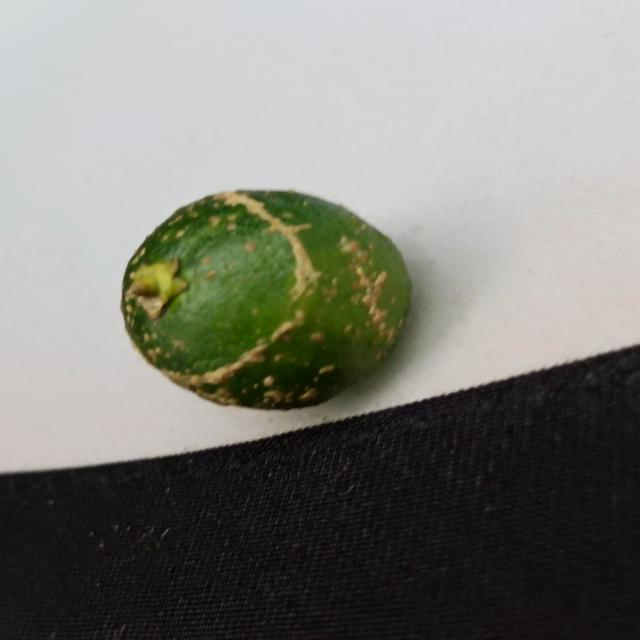scab: (120, 184, 422, 419)
